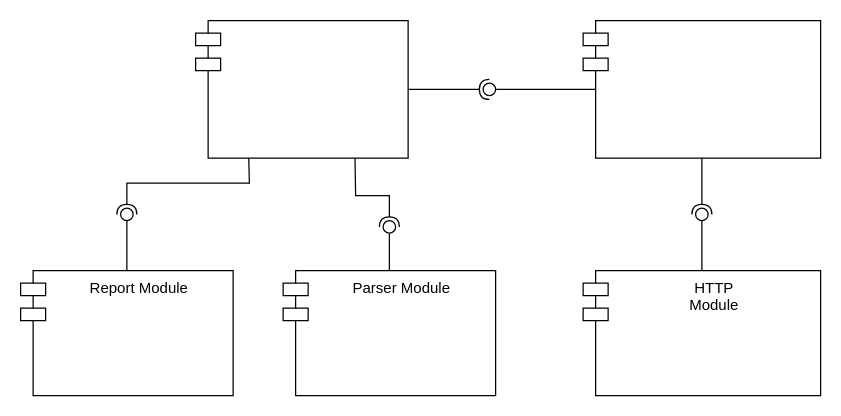
Some shapes in this 841 by 416 pixel diagram are drawn without their labels. Each missing label, with the centre of its shape:
"CLI Module" belongs at pixel 301 88.
"Rule Module" belongs at pixel 701 88.
